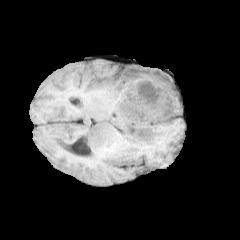glioma: (90, 66, 180, 157)
